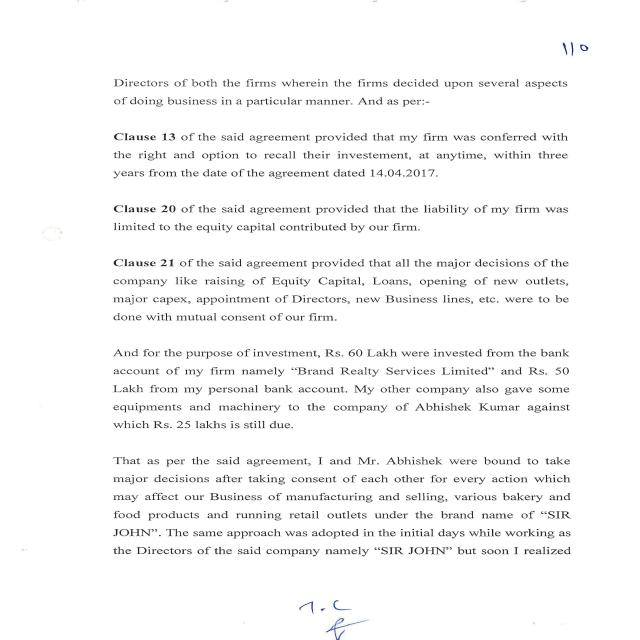page-number: (440, 0, 640, 70)
